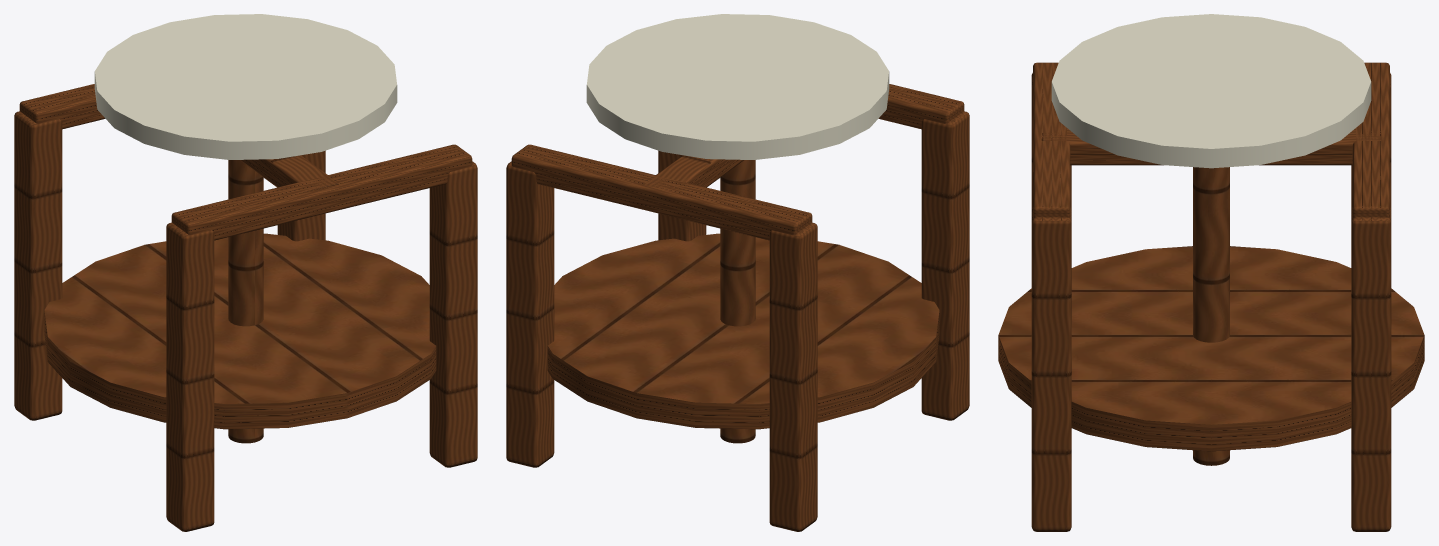
The model's file is primitive-crafting-workshop-pottery-wheel-de651387__21585.glb.
3 views of the same model, side by side, from view 1: azimuth 30°, elevation 25°; view 2: azimuth 150°, elevation 25°; view 3: azimuth 270°, elevation 25° (orthographic). The views are drawn at different scales.
Visible parts, largest first — view 1: pottery-wheel, wheel-head/ivory; view 2: pottery-wheel, wheel-head/ivory; view 3: pottery-wheel, wheel-head/ivory.
Boxes of the visible parts, x1,y1,x2,y2 form: pottery-wheel: (14, 84, 477, 531); wheel-head/ivory: (94, 14, 397, 159); pottery-wheel: (506, 84, 969, 531); wheel-head/ivory: (586, 14, 889, 159); pottery-wheel: (998, 62, 1424, 531); wheel-head/ivory: (1051, 14, 1371, 168).
Bounding box in the file's own units: 0.8 × 0.78 × 0.8.
2 materials, 1 textured.
